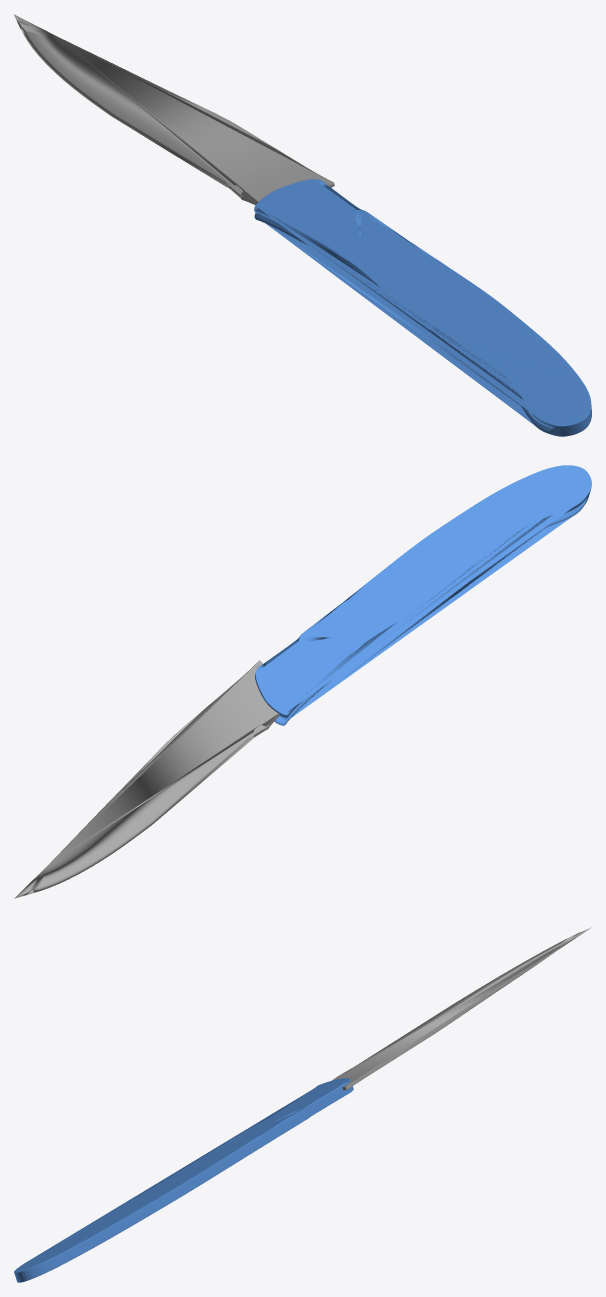
File: knife.fbx
3 renders of one model, top to bottom at view 1: azimuth 30°, elevation 25°; view 2: azimuth 150°, elevation 25°; view 3: azimuth 330°, elevation 25°, orthographic. The views are drawn at different scales.
Parts seen in each view (by area): view 1: Manche, Lame; view 2: Manche, Lame; view 3: Manche, Lame.
Boxes of the visible parts, box(x1,y1,x2,y2) form: Manche: box(254, 179, 591, 436); Lame: box(14, 14, 334, 205); Manche: box(255, 465, 591, 725); Lame: box(14, 660, 278, 898); Manche: box(14, 1078, 353, 1282); Lame: box(332, 927, 591, 1090).
Bounding box in the file's own units: 385 × 308 × 5106.
